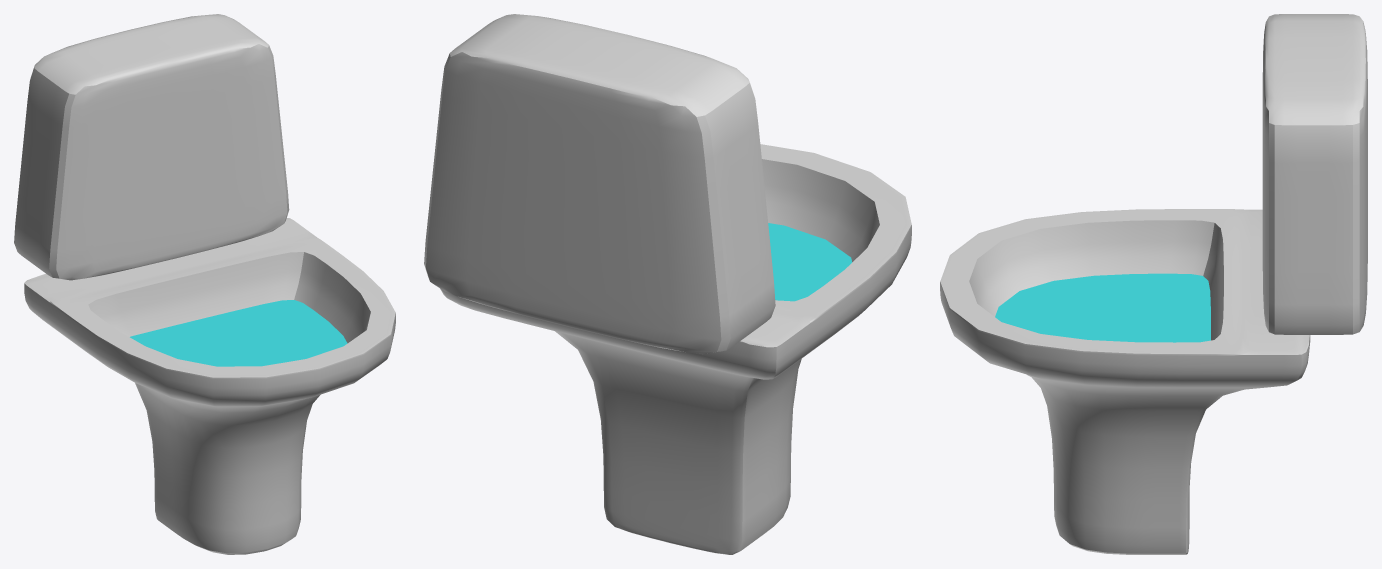
File: Toilet.fbx
3 renders of one model, left to right at view 1: azimuth 30°, elevation 25°; view 2: azimuth 150°, elevation 25°; view 3: azimuth 270°, elevation 25°, orthographic. The views are drawn at different scales.
Parts seen in each view (by area): view 1: Toilet; view 2: Toilet; view 3: Toilet.
Boxes of the visible parts, bbox=[...] form: Toilet: bbox=[14, 14, 395, 554]; Toilet: bbox=[424, 14, 911, 554]; Toilet: bbox=[940, 14, 1367, 554].
Bounding box in the file's own units: 62.72 × 95.36 × 78.08.
